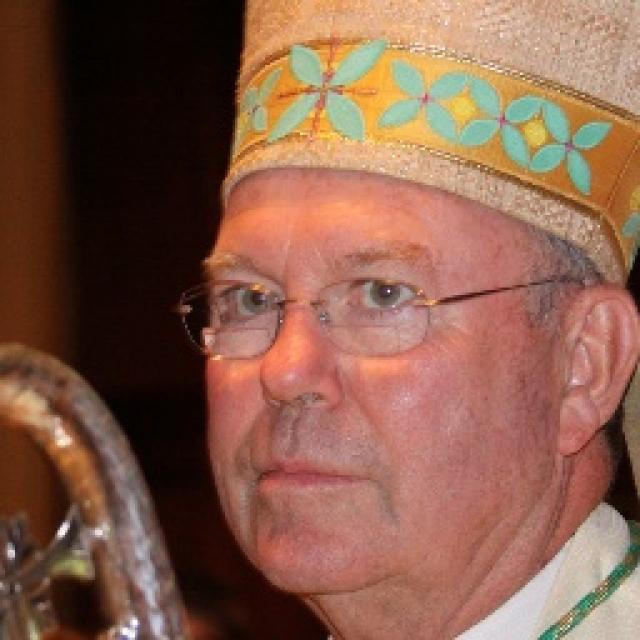earlobe: (554, 408, 602, 458)
eye: (347, 276, 422, 318), (213, 280, 278, 323)
nose: (268, 395, 339, 444)
wholeear: (559, 282, 640, 462)
